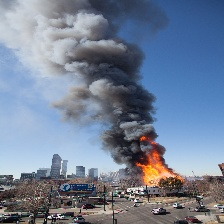fire: (130, 136, 183, 186)
smoke: (7, 1, 168, 153)
